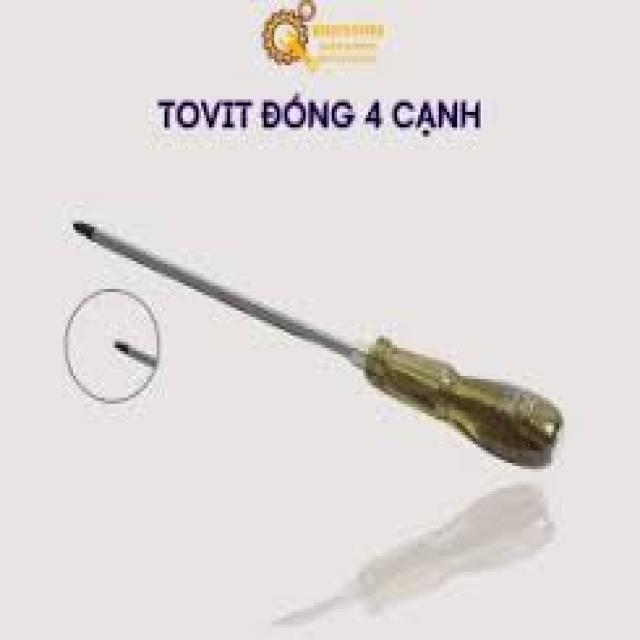screwdriver: (72, 221, 571, 472)
